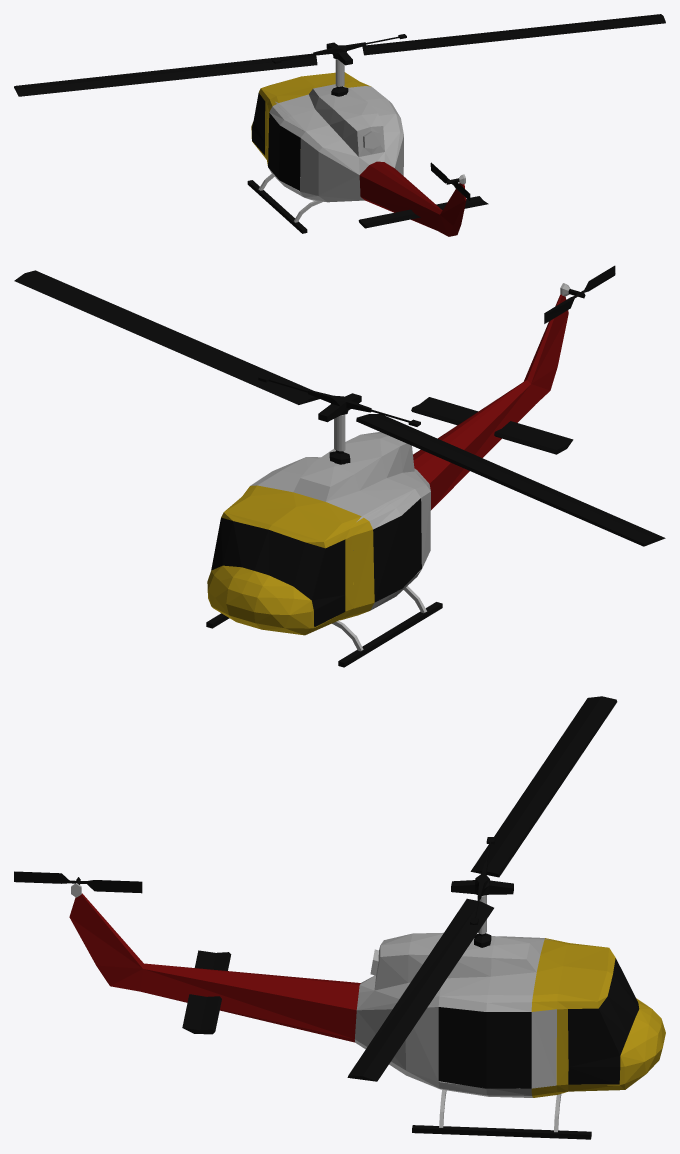
The model's file is heli.obj.
3 views of the same model, one above another, from view 1: azimuth 30°, elevation 25°; view 2: azimuth 150°, elevation 25°; view 3: azimuth 270°, elevation 25° (orthographic). The views are drawn at different scales.
Parts seen in each view (by area): view 1: Object013, Box04_Box014, Box20183, Object011, Cylinder005, Object012, Box01_Box003, Box20182, Cylinder007; view 2: Object013, Box20183, Box04_Box014, Object011, Object012, Object015, Cylinder005, Box01_Box003, Box20182, Box20184, Cylinder007; view 3: Object013, Object018, Box20183, Box04_Box014, Object017, Object016, Box20180, Cylinder005, Cylinder007, Box20184.
Part boxes in pixels (x1=…): Object013: x1=251, y1=72, x2=466, y2=236; Box04_Box014: x1=14, y1=54, x2=317, y2=96; Box20183: x1=362, y1=14, x2=665, y2=55; Object011: x1=268, y1=113, x2=300, y2=190; Cylinder005: x1=272, y1=34, x2=406, y2=96; Object012: x1=252, y1=93, x2=265, y2=155; Box01_Box003: x1=358, y1=209, x2=420, y2=228; Box20182: x1=247, y1=180, x2=307, y2=233; Cylinder007: x1=430, y1=162, x2=470, y2=200; Object013: x1=207, y1=294, x2=568, y2=635; Box20183: x1=14, y1=270, x2=319, y2=404; Box04_Box014: x1=356, y1=414, x2=665, y2=546; Object011: x1=373, y1=498, x2=421, y2=602; Object012: x1=312, y1=539, x2=345, y2=627; Object015: x1=353, y1=529, x2=374, y2=608; Cylinder005: x1=258, y1=375, x2=420, y2=464; Box01_Box003: x1=494, y1=421, x2=573, y2=454; Box20182: x1=338, y1=602, x2=442, y2=667; Box20184: x1=411, y1=397, x2=478, y2=425; Cylinder007: x1=544, y1=265, x2=615, y2=323; Object013: x1=69, y1=893, x2=665, y2=1097; Object018: x1=438, y1=1007, x2=531, y2=1088; Box20183: x1=347, y1=898, x2=493, y2=1081; Box04_Box014: x1=470, y1=696, x2=617, y2=877; Object017: x1=568, y1=1008, x2=620, y2=1084; Object016: x1=531, y1=1009, x2=556, y2=1088; Box20180: x1=412, y1=1125, x2=591, y2=1139; Cylinder005: x1=451, y1=837, x2=513, y2=947; Cylinder007: x1=14, y1=871, x2=142, y2=893; Box20184: x1=182, y1=994, x2=221, y2=1034.
Size of the model in its own units: 945 by 252 by 679.
